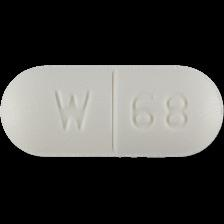42254-076: (0, 0, 224, 224)
